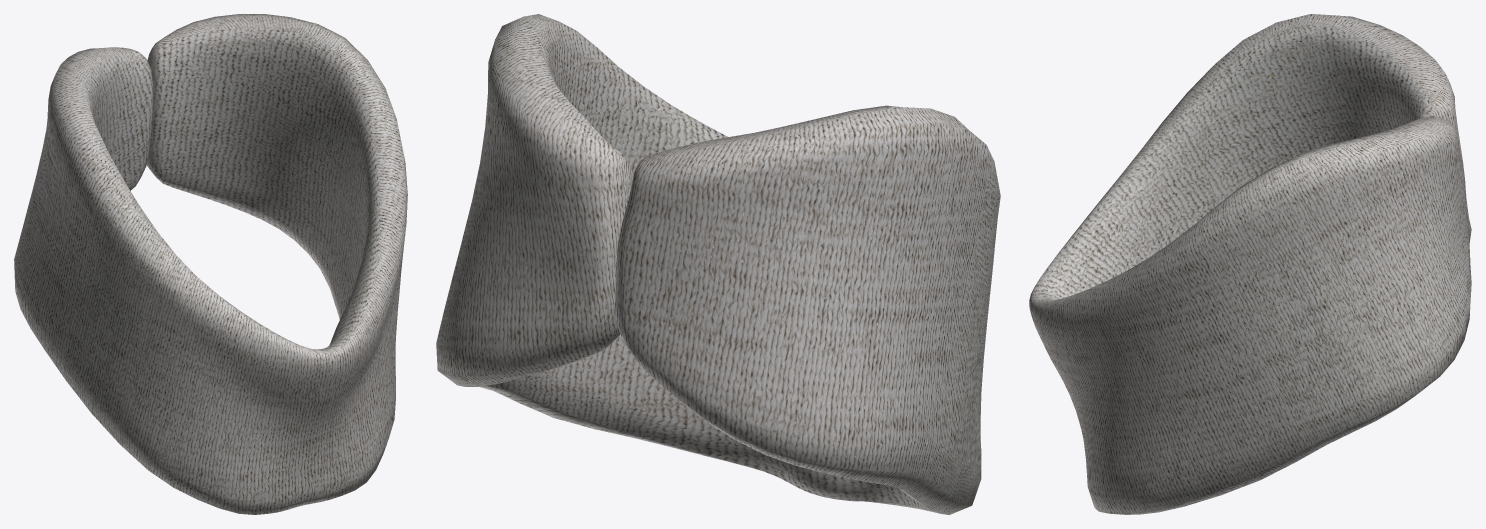
The model's file is collar_edited.fbx.
3 renders of one model, left to right at view 1: azimuth 30°, elevation 25°; view 2: azimuth 150°, elevation 25°; view 3: azimuth 270°, elevation 25°, orthographic. The views are drawn at different scales.
Parts seen in each view (by area): view 1: collar; view 2: collar; view 3: collar.
Part boxes in pixels (<box>): collar: <box>14,14,407,514</box>; collar: <box>436,14,1000,514</box>; collar: <box>1029,14,1471,514</box>.
Size of the model in its own units: 8.04 by 9.01 by 8.9.
